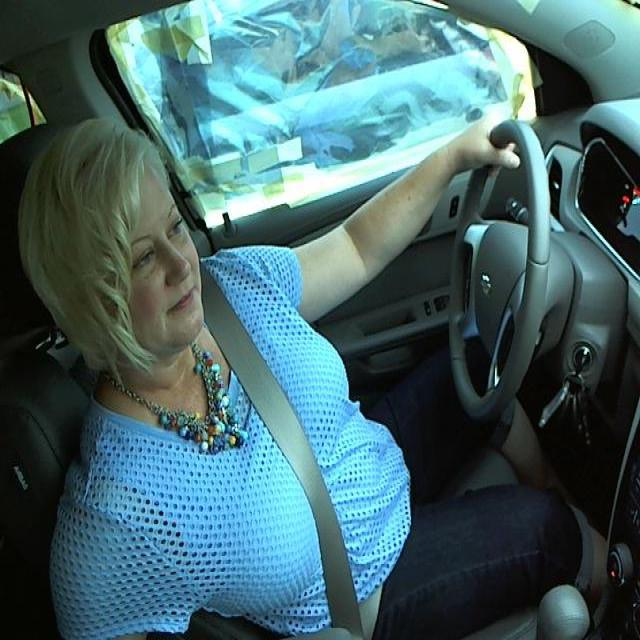seatbelt: (194, 331, 374, 636)
